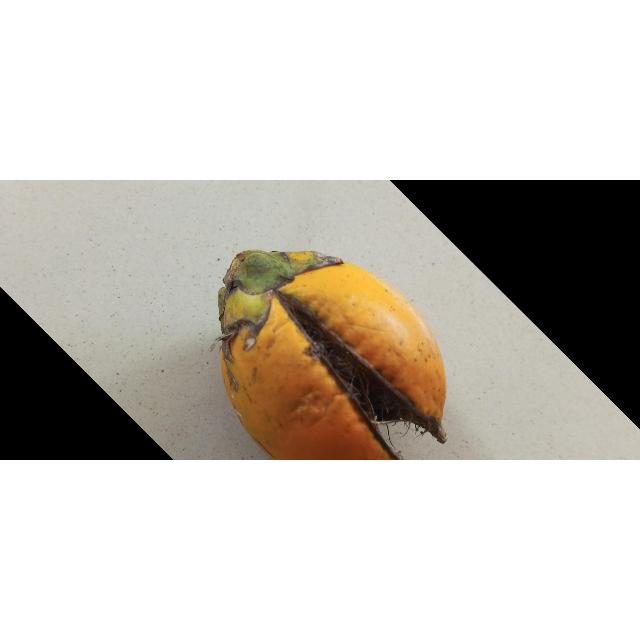damaged: (219, 251, 448, 461)
